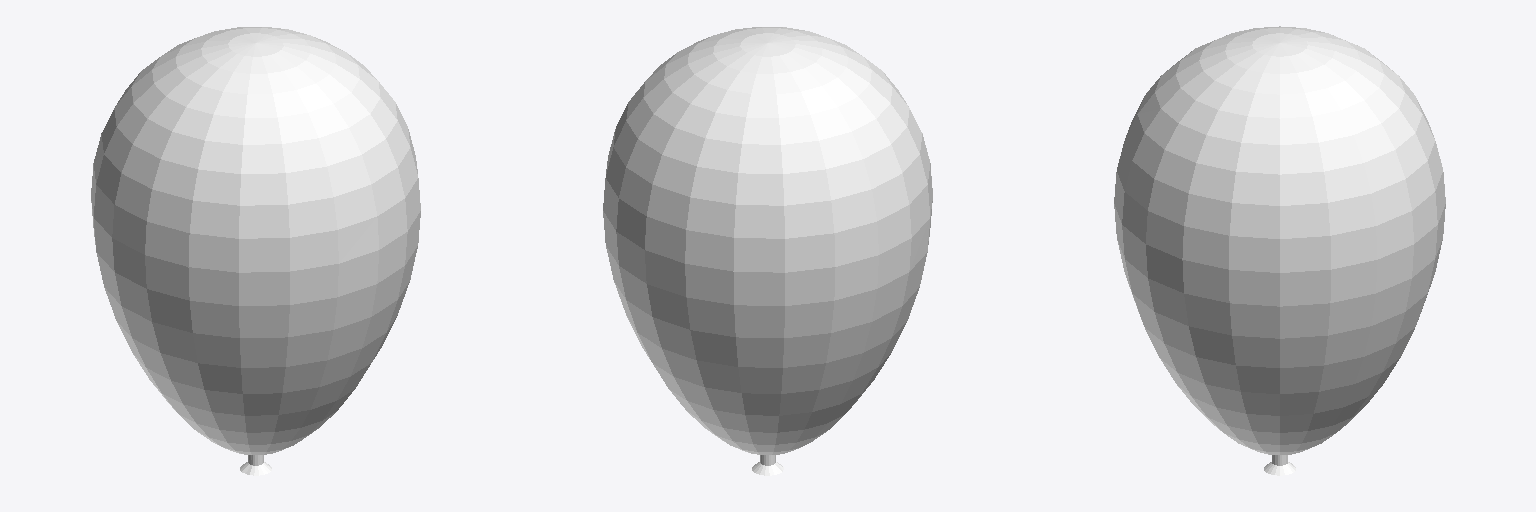
File: red-balloon.obj
3 renders of one model, left to right at view 1: azimuth 30°, elevation 25°; view 2: azimuth 150°, elevation 25°; view 3: azimuth 270°, elevation 25°, orthographic.
Parts seen in each view (by area): view 1: pasted__pSphere1; view 2: pasted__pSphere1; view 3: pasted__pSphere1.
Part boxes in pixels (bbox=[...]): pasted__pSphere1: bbox=[91, 27, 420, 475]; pasted__pSphere1: bbox=[603, 27, 932, 475]; pasted__pSphere1: bbox=[1114, 26, 1445, 475].
Bounding box in the file's own units: 0.0187 × 0.0264 × 0.0187.